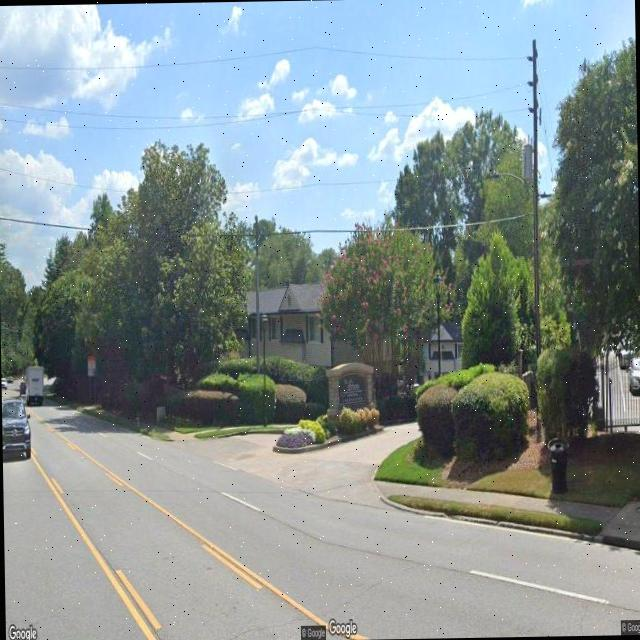trash_can: (550, 438, 568, 492)
